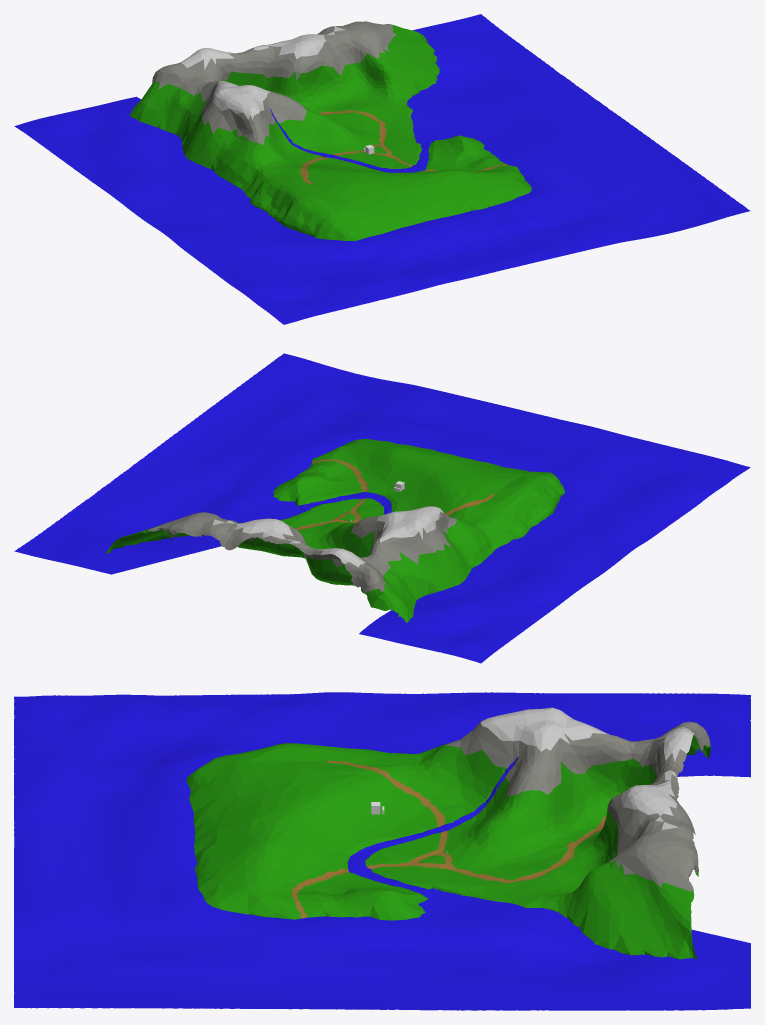
File: ground.fbx
3 renders of one model, top to bottom at view 1: azimuth 30°, elevation 25°; view 2: azimuth 150°, elevation 25°; view 3: azimuth 270°, elevation 25°, orthographic. The views are drawn at different scales.
Parts seen in each view (by area): view 1: Ocean, Land, Enemy Path, Fluss; view 2: Ocean, Land, Enemy Path, Fluss; view 3: Ocean, Land, Enemy Path, Fluss.
Boxes of the visible parts, left/top/right/bottom form: Ocean: left=14, top=14, right=750, bottom=324; Land: left=129, top=21, right=531, bottom=240; Enemy Path: left=300, top=110, right=508, bottom=184; Fluss: left=270, top=108, right=432, bottom=172; Ocean: left=14, top=353, right=750, bottom=663; Land: left=105, top=439, right=564, bottom=622; Enemy Path: left=296, top=459, right=494, bottom=529; Fluss: left=299, top=492, right=391, bottom=514; Ocean: left=14, top=692, right=750, bottom=1010; Land: left=186, top=707, right=710, bottom=959; Enemy Path: left=291, top=760, right=605, bottom=918; Fluss: left=347, top=757, right=518, bottom=898.
Size of the model in its own units: 3576 by 476 by 3575.
